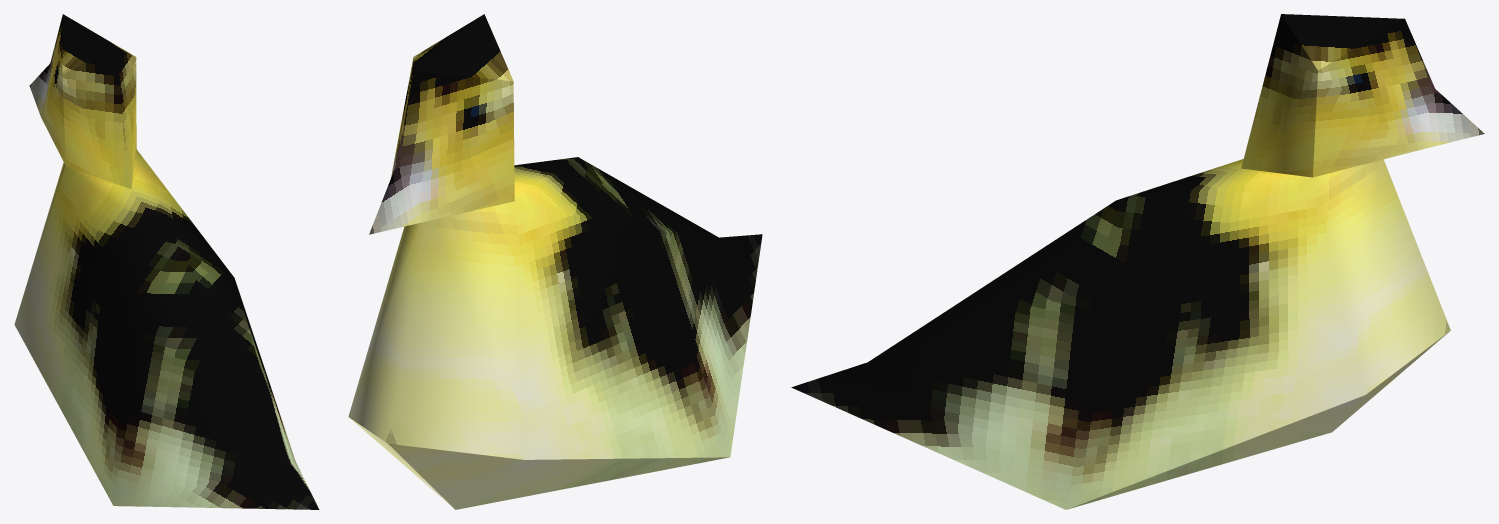
The model's file is Critter_Duckling.FBX.
3 views of the same model, side by side, from view 1: azimuth 30°, elevation 25°; view 2: azimuth 150°, elevation 25°; view 3: azimuth 270°, elevation 25° (orthographic). The views are drawn at different scales.
Parts seen in each view (by area): view 1: critter_duckling; view 2: critter_duckling; view 3: critter_duckling.
Part boxes in pixels (bbox=[...]): critter_duckling: bbox=[14, 14, 319, 509]; critter_duckling: bbox=[348, 14, 762, 509]; critter_duckling: bbox=[791, 14, 1484, 509].
Bounding box in the file's own units: 19.25 × 37.33 × 53.02.
